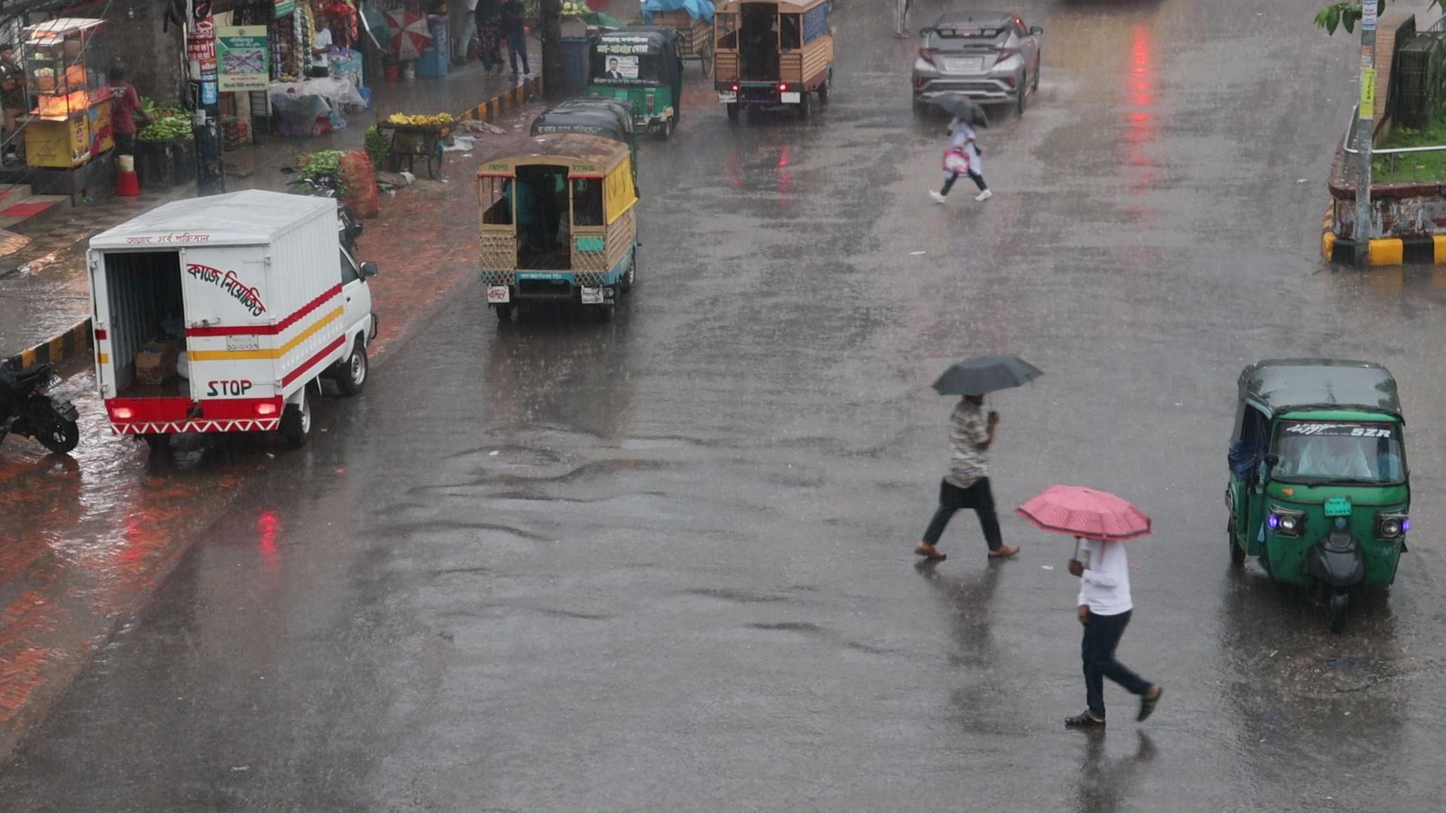Car: (911, 10, 1042, 128)
Truck: (463, 132, 640, 327)
